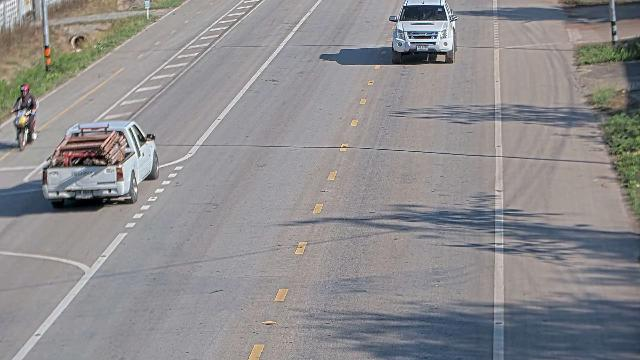motorcycle: (11, 82, 38, 150)
pickup-truck: (41, 119, 160, 207), (388, 0, 458, 64)
